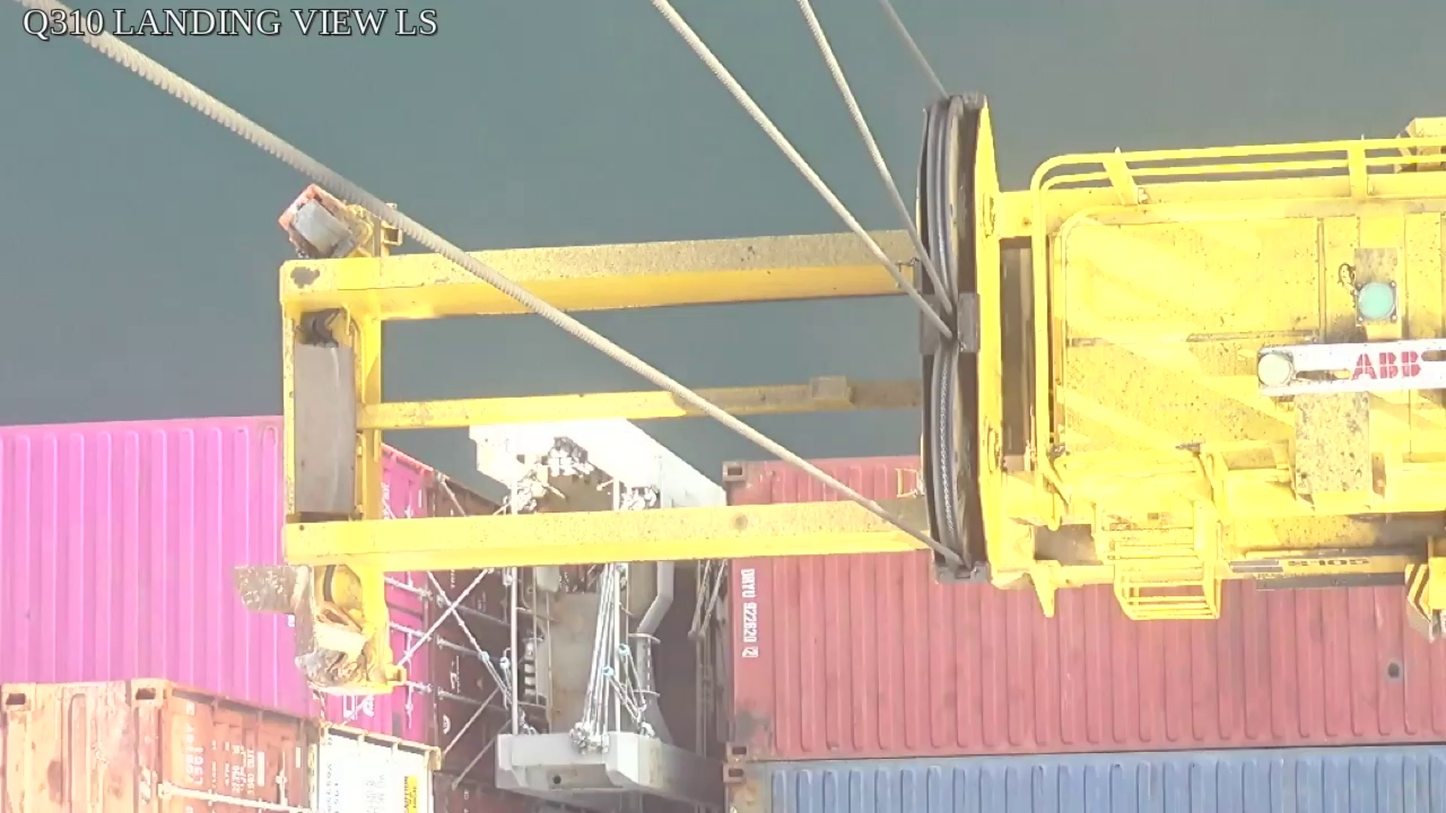aa: (911, 96, 1006, 581)
